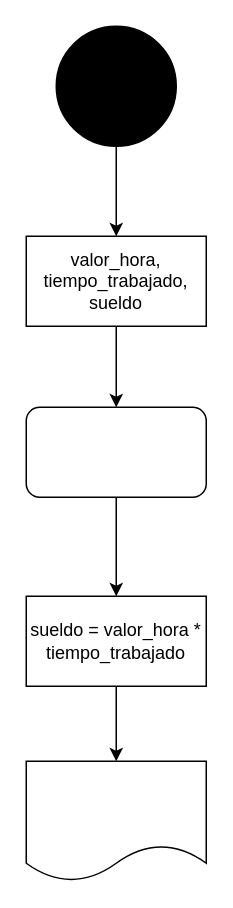
Some shapes in this 233 by 908 pixel diagram are drawn without their labels. Here are the shapes that lost their labels. From the top down, the centre of each, then its label:
[115,451]: Ingreso valor_hora, tiempo_trabajado
[115,820]: Imprimo "El sueldo es: ", sueldo
